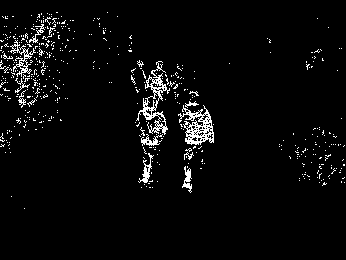person: (176, 91, 214, 194), (133, 95, 170, 188), (146, 59, 171, 105), (129, 58, 148, 94)
